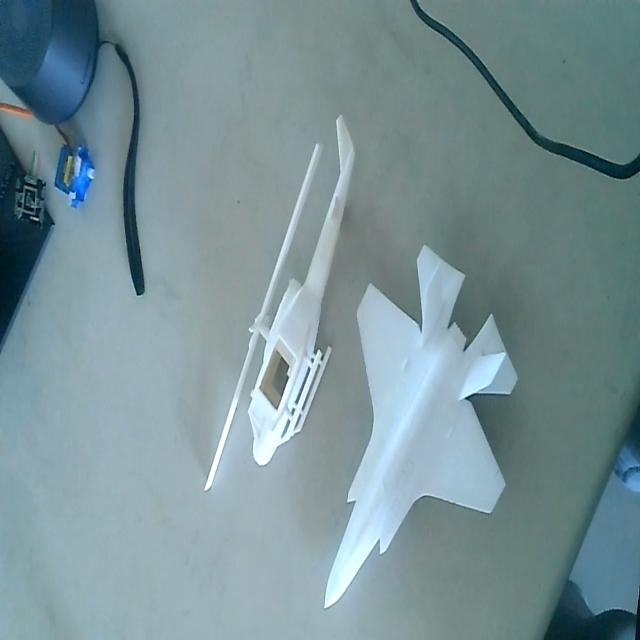Helicopter: (199, 110, 358, 494)
Jet: (325, 237, 518, 621)
